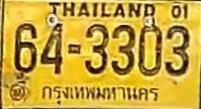0: (138, 23, 162, 75)
3: (164, 24, 189, 76), (84, 23, 108, 73), (110, 24, 134, 74)
4: (40, 21, 63, 74)
6: (14, 22, 37, 74)
BKK: (38, 82, 160, 107)
